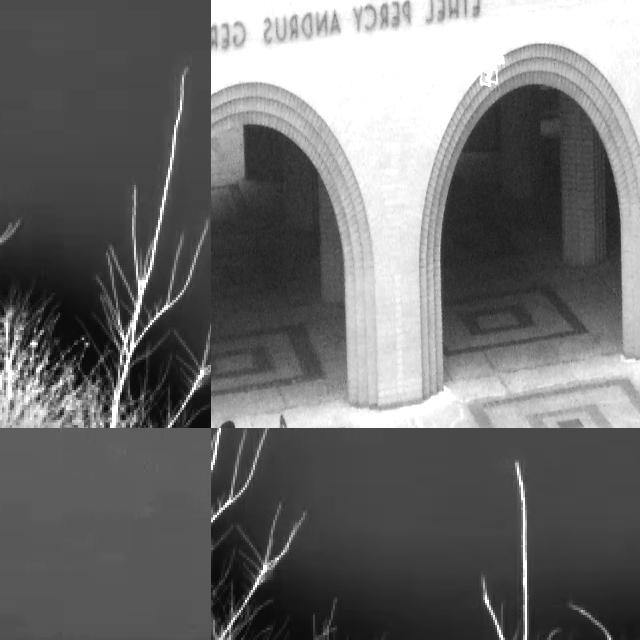drone: (472, 50, 508, 93)
